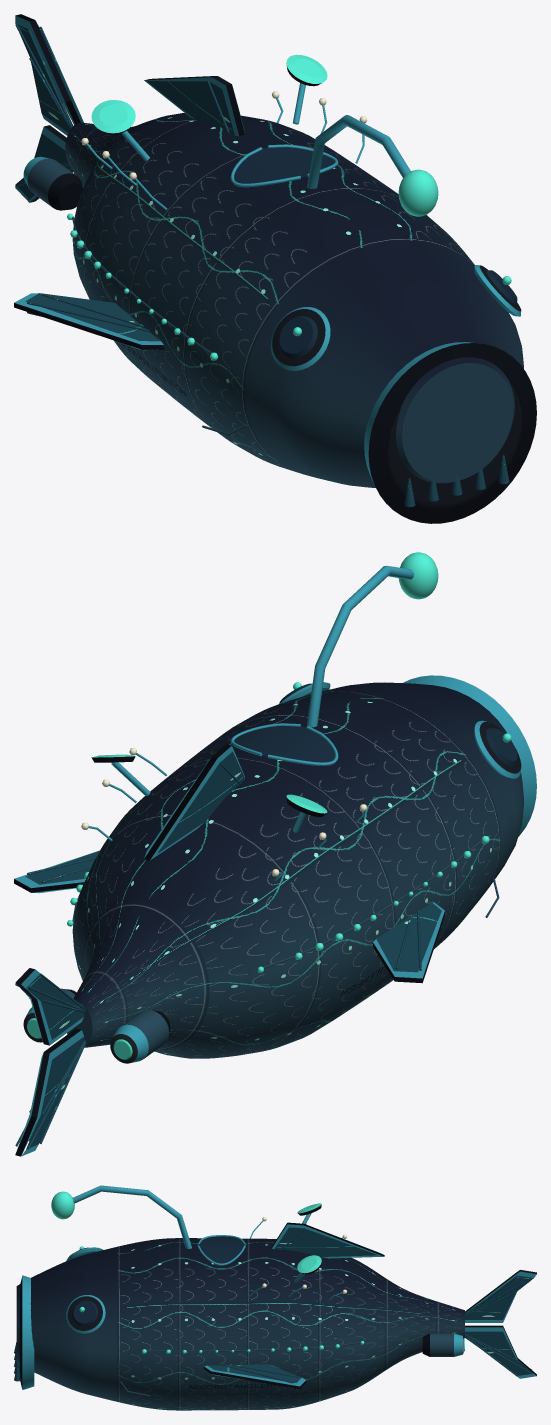
3 views of the same model, one above another, from view 1: azimuth 30°, elevation 25°; view 2: azimuth 150°, elevation 25°; view 3: azimuth 270°, elevation 25° (orthographic). The views are drawn at different scales.
Parts seen in each view (by area): view 1: anglerfish_hull; view 2: anglerfish_hull; view 3: anglerfish_hull.
Part boxes in pixels (box(x1,y1,x2,y2)): anglerfish_hull: box(14, 14, 536, 523); anglerfish_hull: box(14, 552, 536, 1156); anglerfish_hull: box(14, 1185, 536, 1410).
Bounding box in the file's own units: 9.08 × 7.72 × 17.
1 material, 1 textured.
